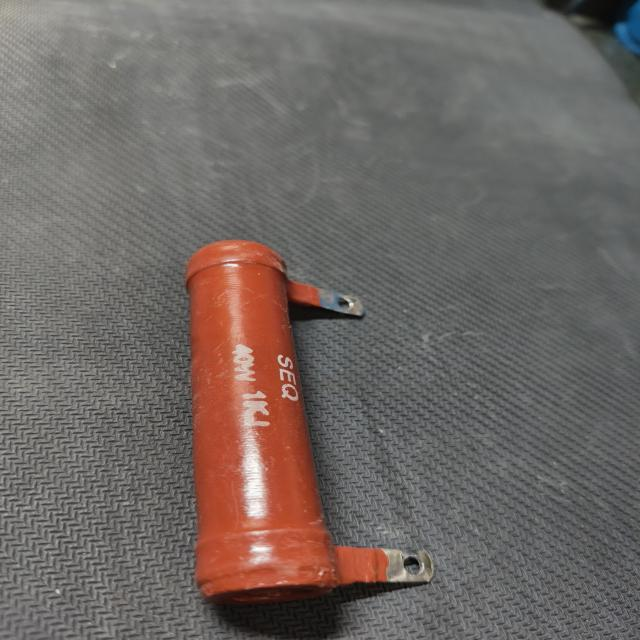resistor: (163, 232, 444, 620)
